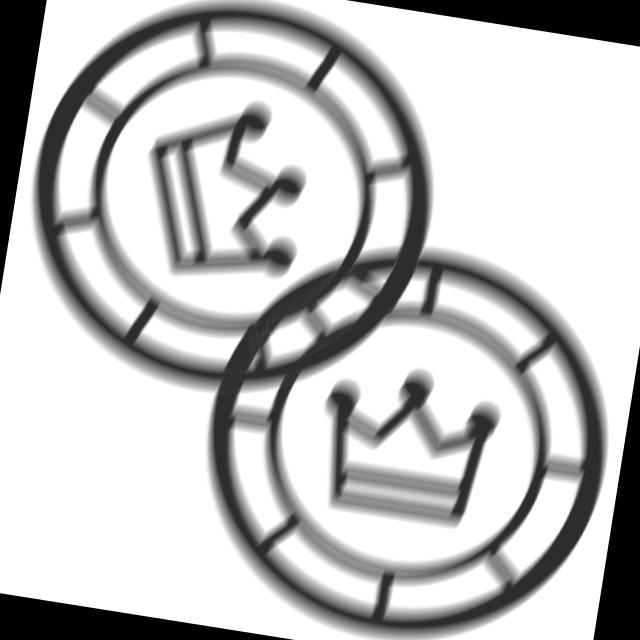coin: (1, 1, 475, 440), (167, 204, 640, 640)
